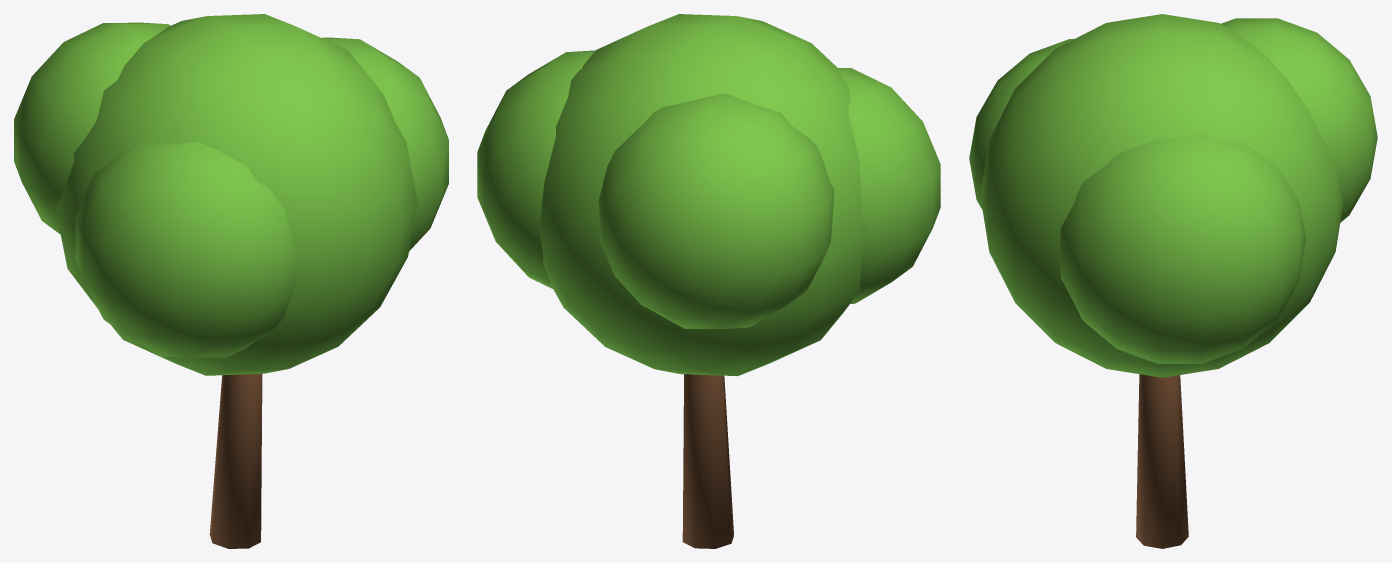
File: tree_round.glb
3 renders of one model, left to right at view 1: azimuth 30°, elevation 25°; view 2: azimuth 150°, elevation 25°; view 3: azimuth 270°, elevation 25°, orthographic.
Visible parts, largest first — view 1: Tree_Round_Canopy, Tree_Round_Trunk; view 2: Tree_Round_Canopy, Tree_Round_Trunk; view 3: Tree_Round_Canopy, Tree_Round_Trunk.
Boxes of the visible parts, x1,y1,x2,y2 form: Tree_Round_Canopy: (14,14,448,375); Tree_Round_Trunk: (209,374,262,548); Tree_Round_Canopy: (477,14,940,376); Tree_Round_Trunk: (682,374,733,548); Tree_Round_Canopy: (969,14,1377,377); Tree_Round_Trunk: (1136,374,1188,548).
Bounding box in the file's own units: 3.31 × 4.24 × 3.1.
